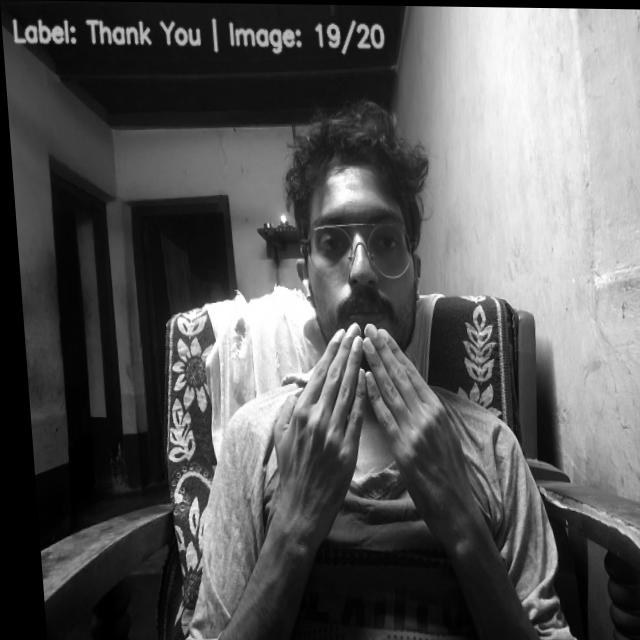Thank You: (257, 319, 473, 528)
